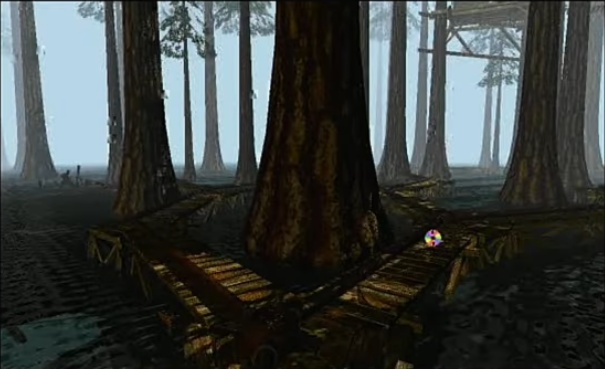Waiting: (422, 227, 444, 247)
